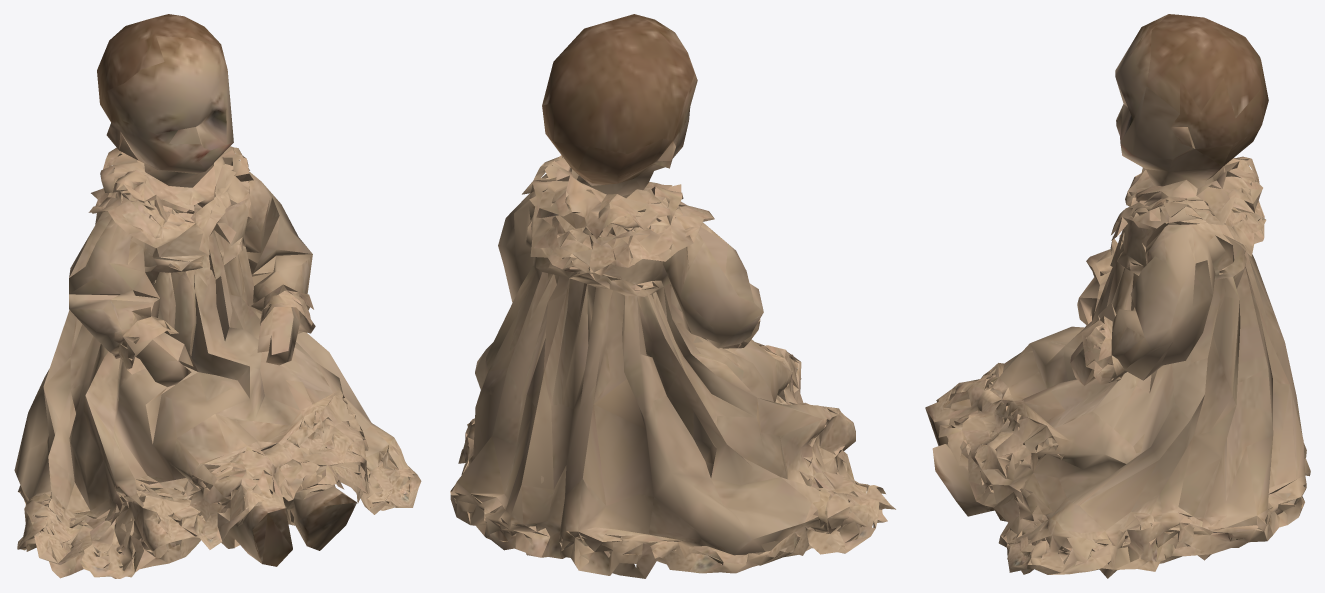
File: up_doll_baby.glb
3 renders of one model, left to right at view 1: azimuth 30°, elevation 25°; view 2: azimuth 150°, elevation 25°; view 3: azimuth 270°, elevation 25°, orthographic. The views are drawn at different scales.
Parts seen in each view (by area): view 1: up_doll_baby; view 2: up_doll_baby; view 3: up_doll_baby.
Part boxes in pixels (x1,y1,x2,y2): up_doll_baby: (14, 14, 421, 578); up_doll_baby: (450, 14, 895, 578); up_doll_baby: (925, 14, 1310, 578).
Bounding box in the file's own units: 0.3842 × 0.45 × 0.3322.
1 material, 1 textured.
